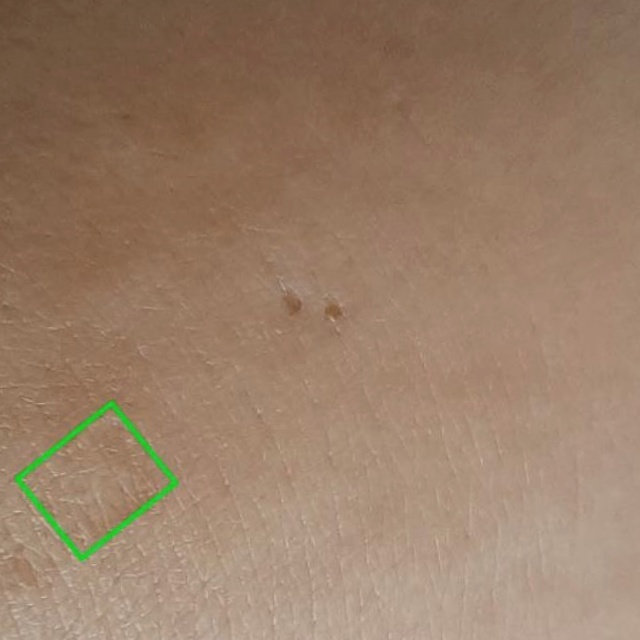Contact Dermatitis: (17, 402, 175, 558)
